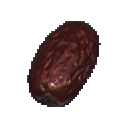gd: (18, 10, 108, 121)
